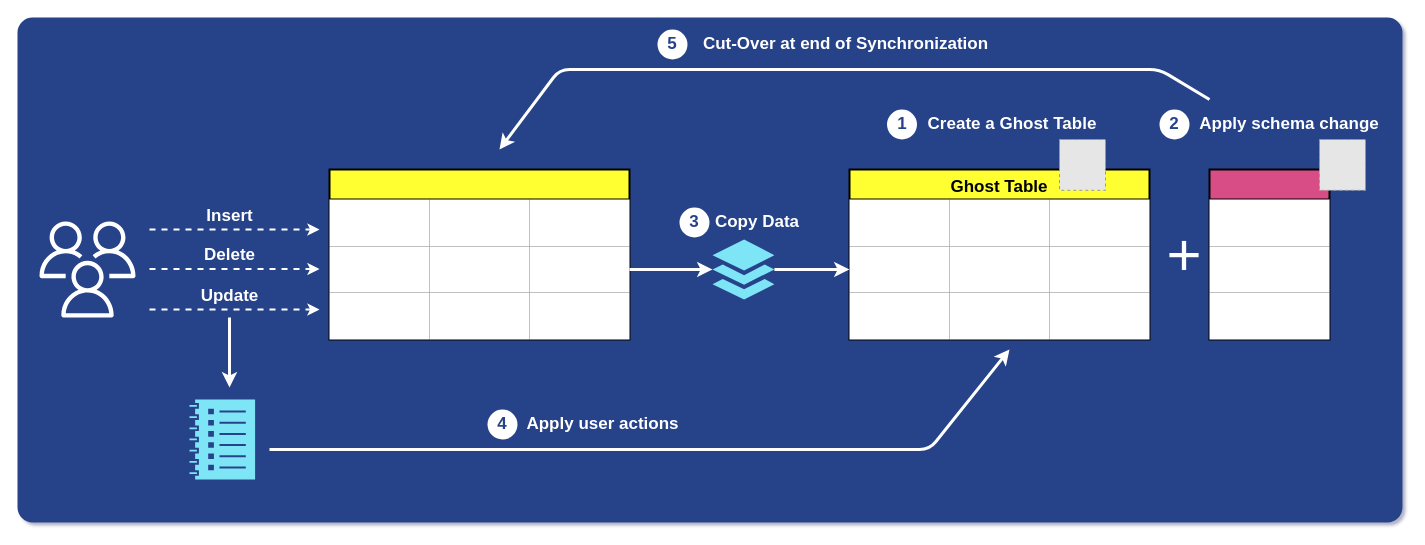
Image size: 1425x545. Some labels were removed from this diagram. Grey dashed boxes stand in for pictures. Here are the shapes that lost their labels. From the top down, the centre of each, then its label:
At (479,254): "Original Table".
At (1269,254): "New Column".
At (222,439): "Change log".
